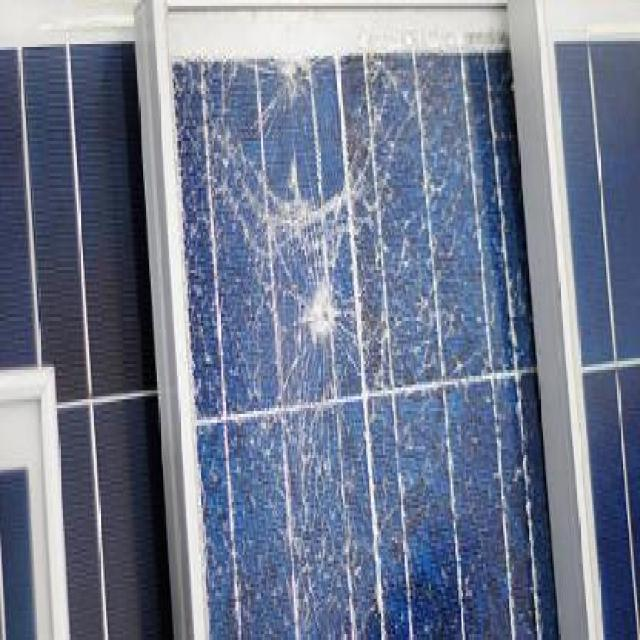cracked: (144, 3, 578, 634)
